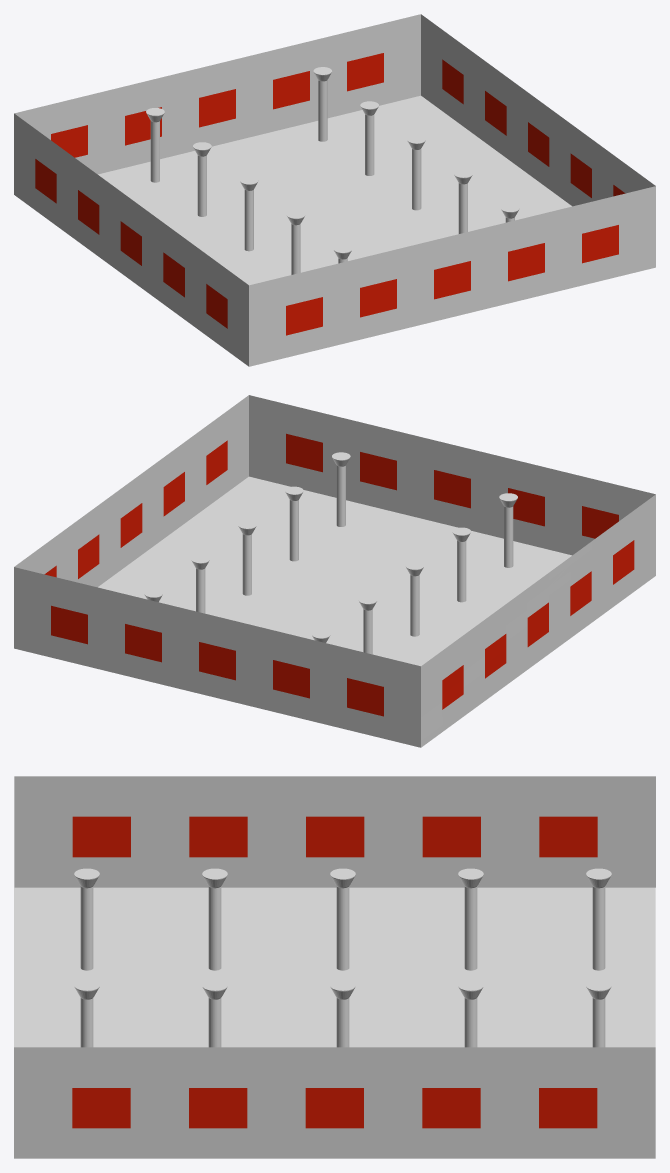
The model's file is space.glb.
3 views of the same model, one above another, from view 1: azimuth 30°, elevation 25°; view 2: azimuth 150°, elevation 25°; view 3: azimuth 270°, elevation 25° (orthographic). The views are drawn at different scales.
Parts seen in each view (by area): view 1: Walls, Floor, Pillars; view 2: Walls, Floor, Pillars; view 3: Walls, Floor, Pillars.
Part boxes in pixels (x1,y1,x2,y2): Walls: [14, 14, 655, 366]; Floor: [98, 95, 571, 285]; Pillars: [146, 67, 519, 274]; Walls: [14, 395, 655, 747]; Floor: [98, 476, 571, 666]; Pillars: [144, 452, 517, 654]; Walls: [14, 776, 655, 1158]; Floor: [14, 887, 655, 1047]; Pillars: [74, 868, 611, 1047].
Size of the model in its own units: 343 by 65.65 by 343.
